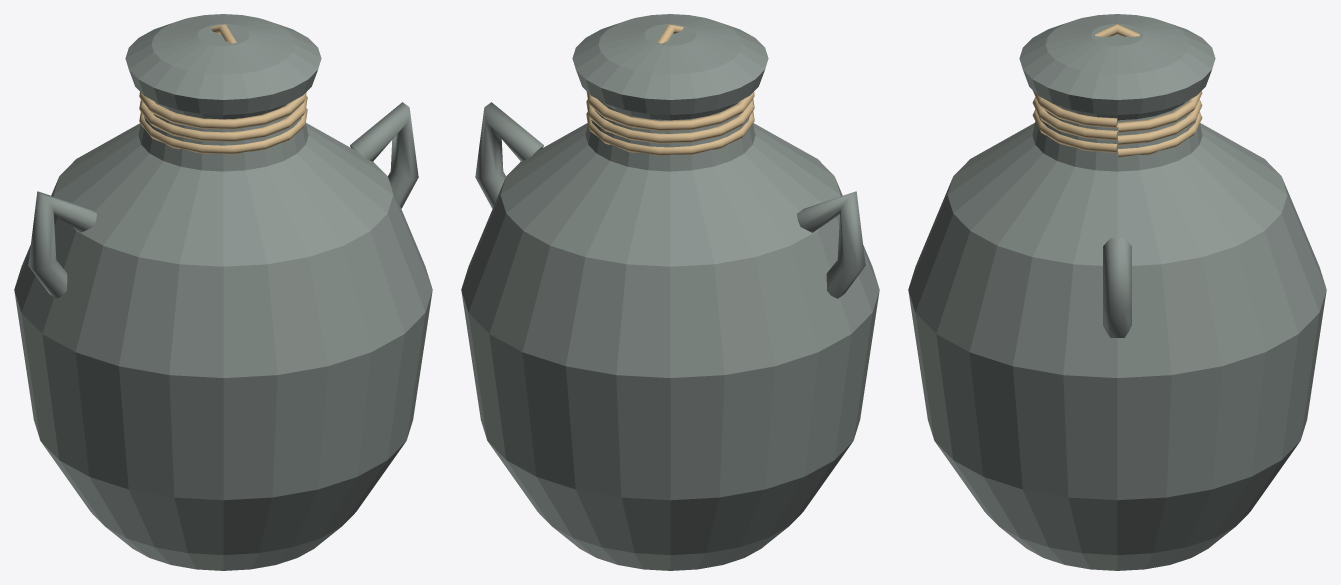
File: HanWaterPot.fbx
3 renders of one model, left to right at view 1: azimuth 30°, elevation 25°; view 2: azimuth 150°, elevation 25°; view 3: azimuth 270°, elevation 25°, orthographic.
Visible parts, largest first — view 1: HanWaterPot; view 2: HanWaterPot; view 3: HanWaterPot.
Part boxes in pixels (x1,y1,x2,y2): HanWaterPot: [14, 14, 432, 570]; HanWaterPot: [461, 14, 879, 570]; HanWaterPot: [908, 14, 1326, 570].
Bounding box in the file's own units: 33.84 × 42.35 × 32.
